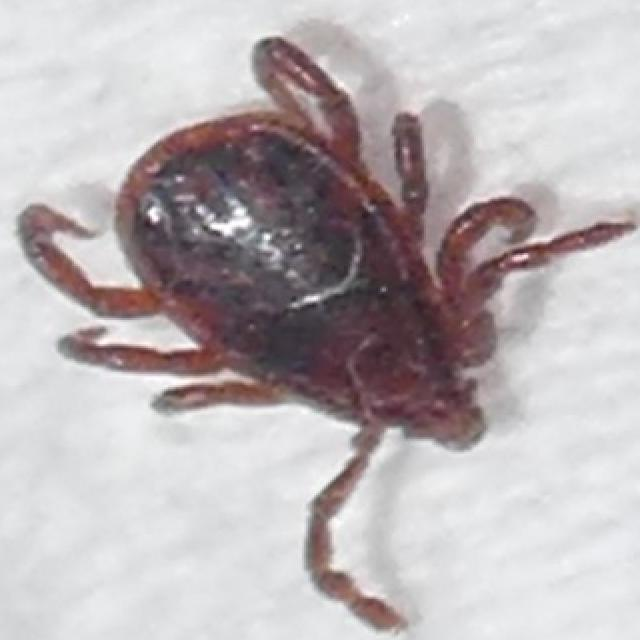Rhipicephalus Sanguineus-M: (18, 33, 632, 633)
